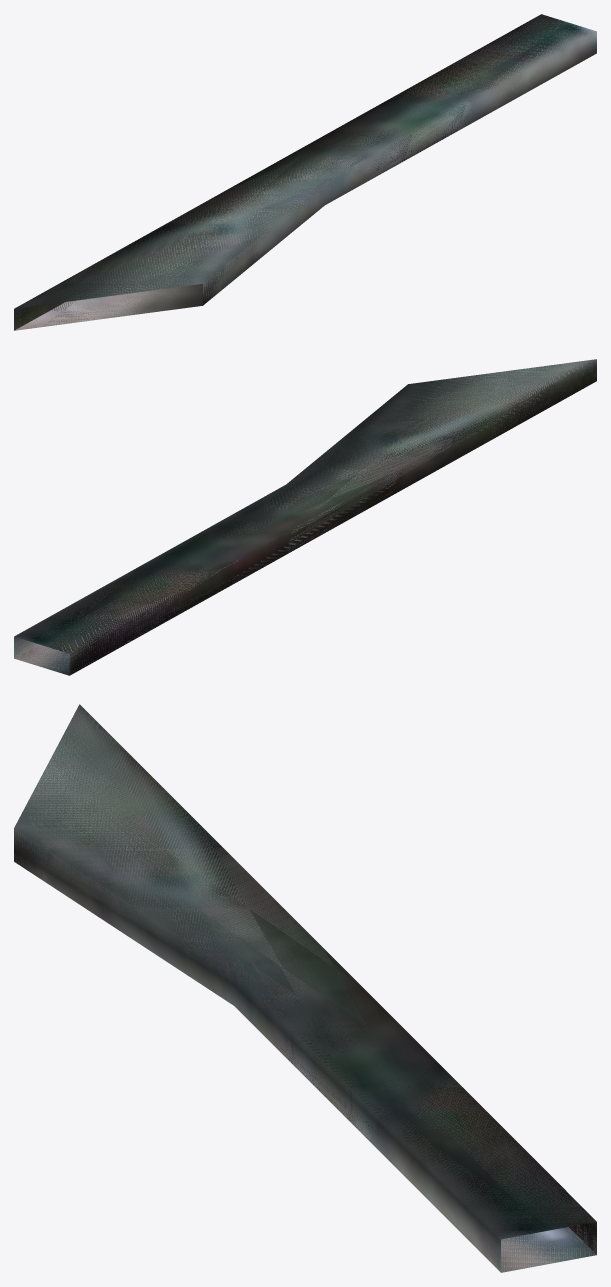
3 renders of one model, top to bottom at view 1: azimuth 30°, elevation 25°; view 2: azimuth 210°, elevation 25°; view 3: azimuth 270°, elevation 25°, orthographic. The views are drawn at different scales.
Size of the model in its own units: 0.5361 by 0.0156 by 0.2467.
2 materials, 2 textured.
